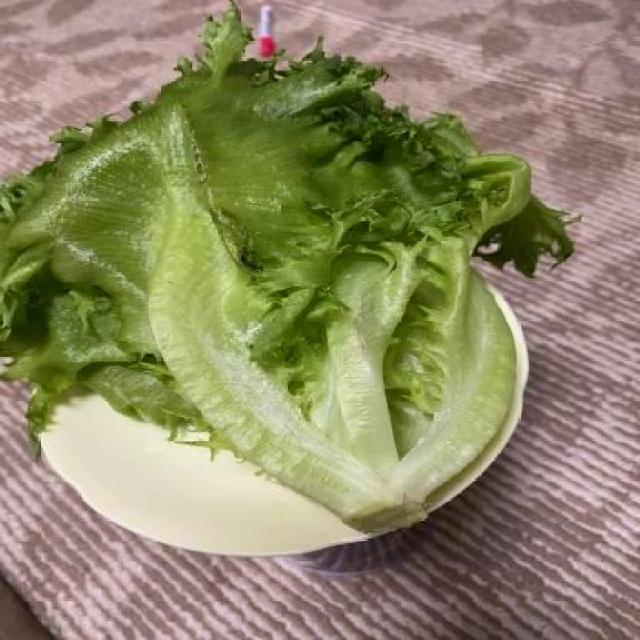Lettuce: (0, 5, 578, 535)
